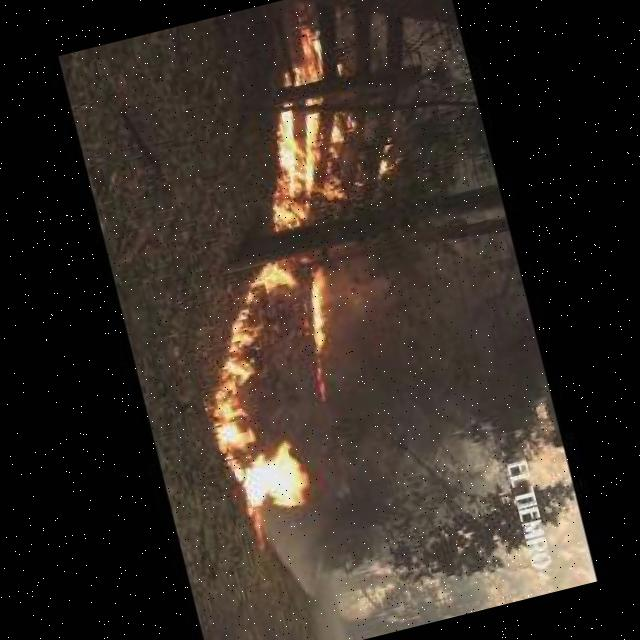fire: (199, 350, 319, 526), (245, 86, 380, 231), (212, 258, 308, 354), (298, 267, 342, 350), (272, 24, 329, 87), (373, 154, 408, 181), (311, 360, 333, 402)
